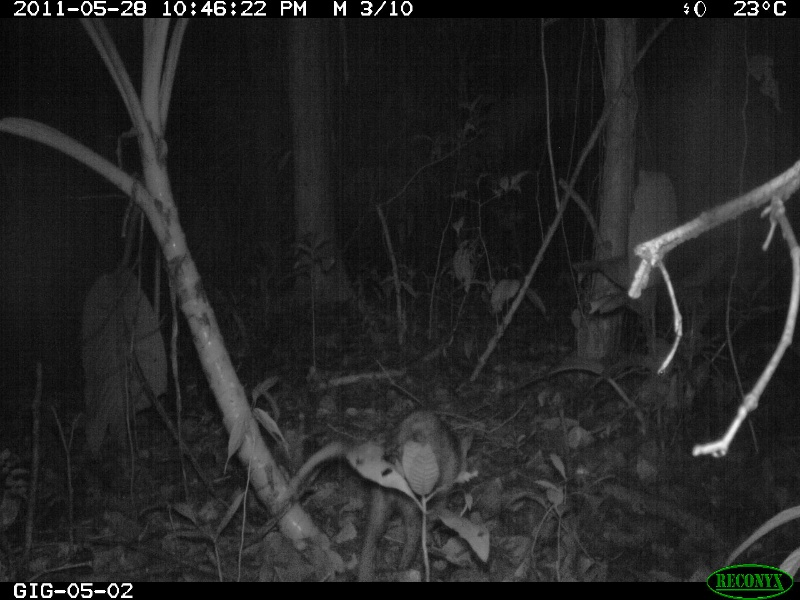opossum: (272, 406, 465, 573)
